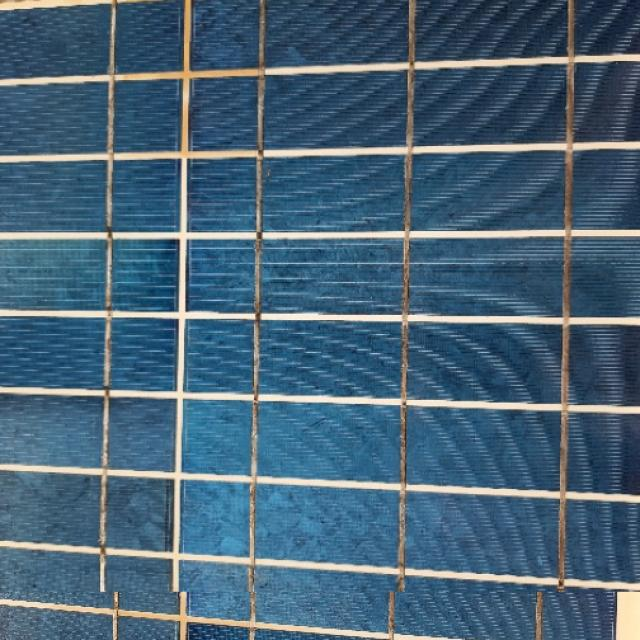Clean: (0, 0, 640, 592)
